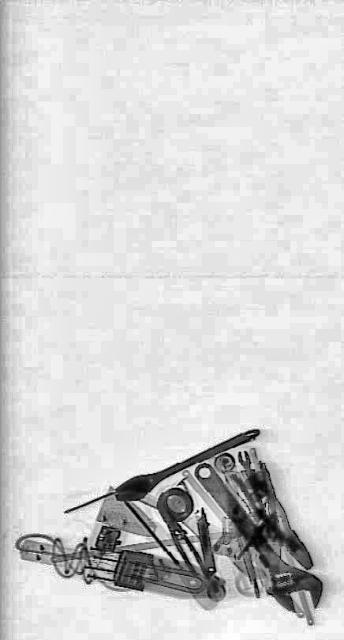Pliers: (250, 477, 318, 583), (154, 494, 208, 588)
Wrench: (187, 437, 325, 635), (236, 444, 257, 488)
